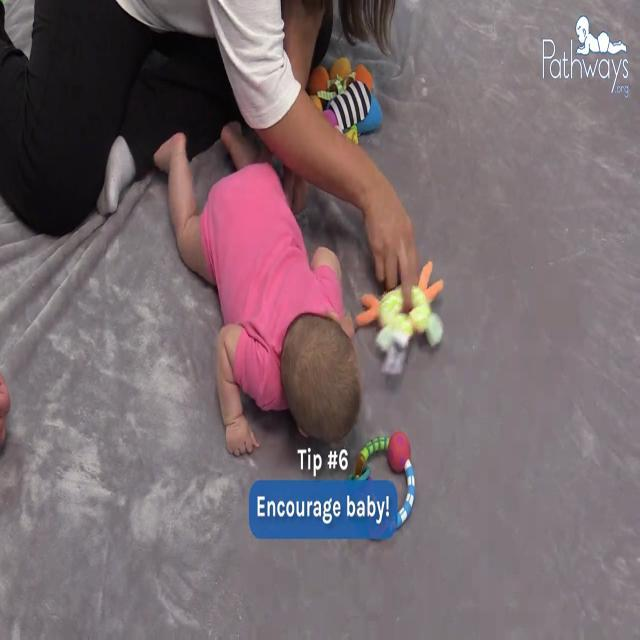baby: (154, 110, 370, 468)
